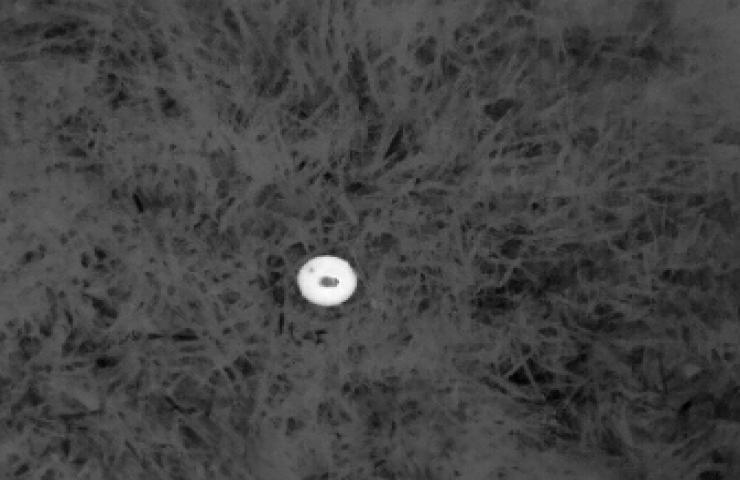landmines: (291, 252, 367, 311)
